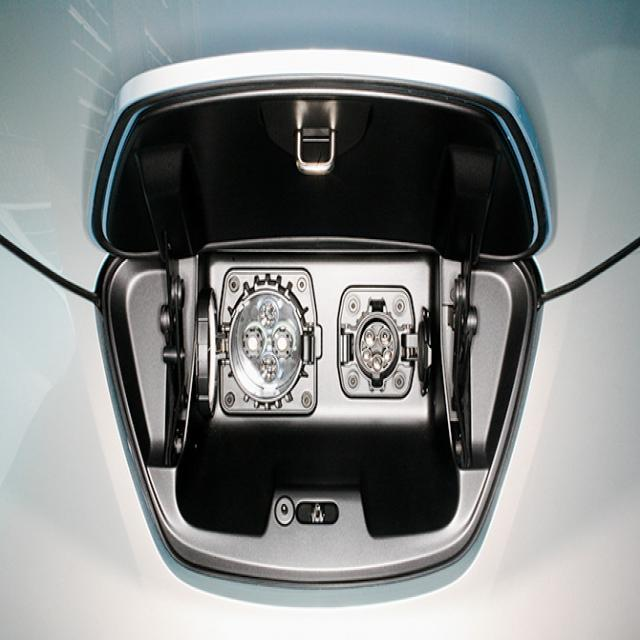CHAdeMO: (195, 264, 327, 418)
